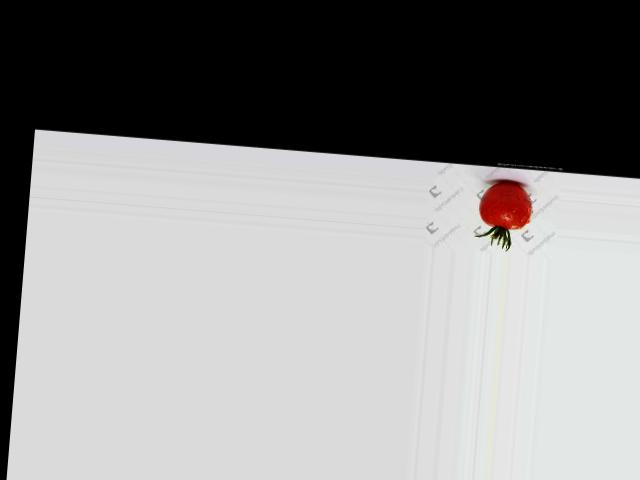tomato: (477, 180, 533, 229)
